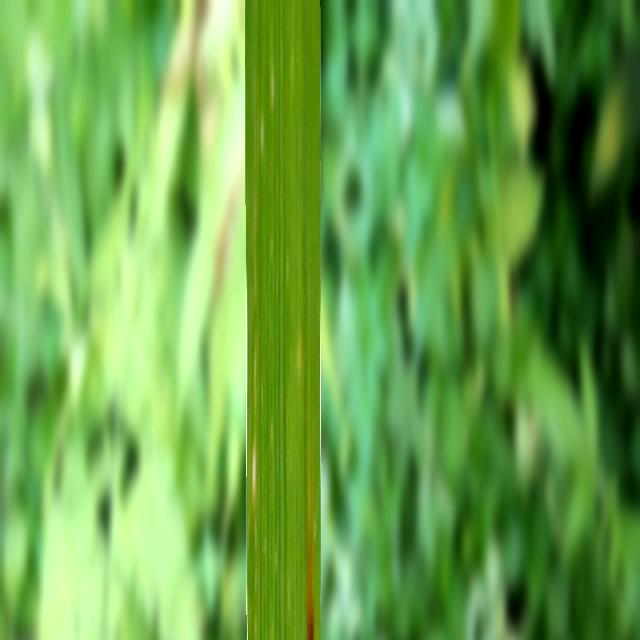NBS: (306, 484, 314, 640)
